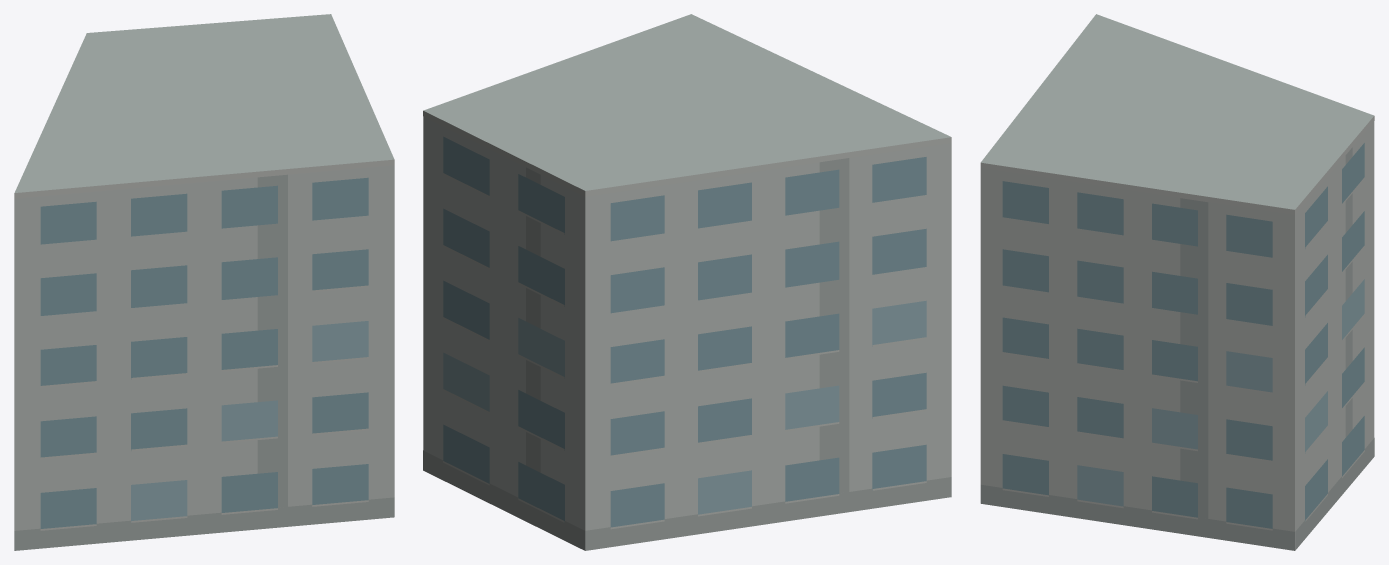
File: residential-3fead6eb-5006-4658-b249-43b7591791d0.glb
3 renders of one model, left to right at view 1: azimuth 30°, elevation 25°; view 2: azimuth 150°, elevation 25°; view 3: azimuth 270°, elevation 25°, orthographic. The views are drawn at different scales.
Visible parts, largest first — view 1: residential-3fead6eb-5006-4658-b249-43b7591791d0.tmp; view 2: residential-3fead6eb-5006-4658-b249-43b7591791d0.tmp; view 3: residential-3fead6eb-5006-4658-b249-43b7591791d0.tmp.
Part boxes in pixels (<box>): residential-3fead6eb-5006-4658-b249-43b7591791d0.tmp: <box>14,14,394,550</box>; residential-3fead6eb-5006-4658-b249-43b7591791d0.tmp: <box>423,14,951,550</box>; residential-3fead6eb-5006-4658-b249-43b7591791d0.tmp: <box>980,14,1374,550</box>.
Bounding box in the file's own units: 18.79 × 15.25 × 15.97.
